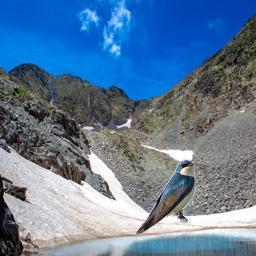Swallow: (133, 157, 199, 236)
